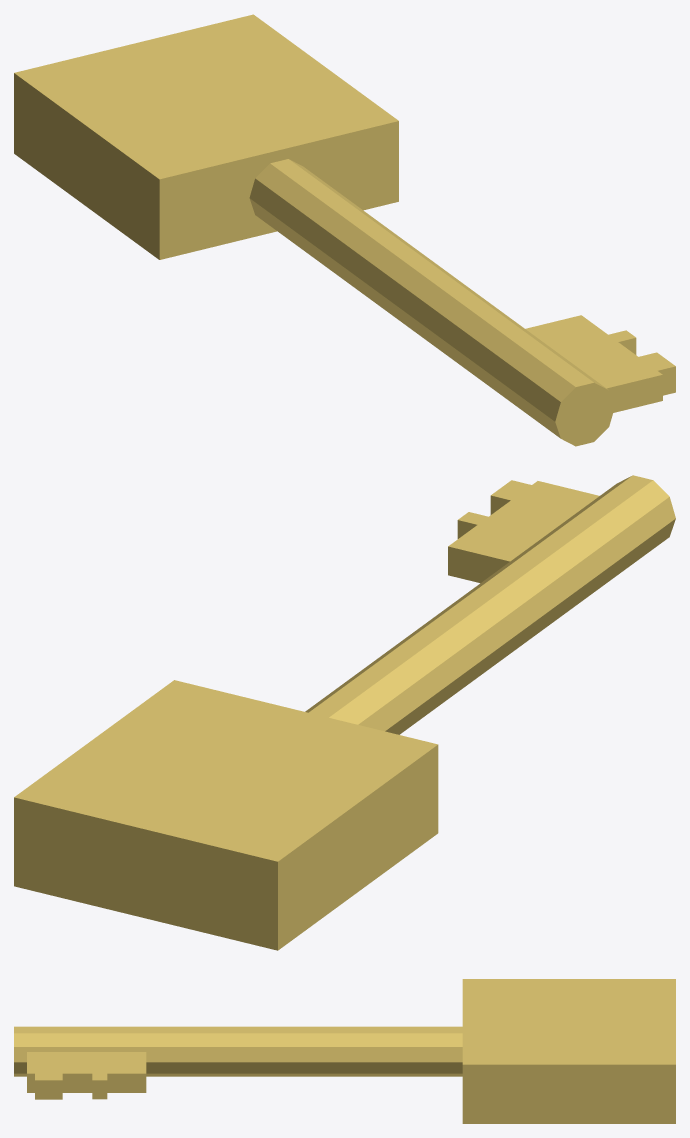
File: key_glb_export.glb
3 views of the same model, one above another, from view 1: azimuth 30°, elevation 25°; view 2: azimuth 150°, elevation 25°; view 3: azimuth 270°, elevation 25° (orthographic). The views are drawn at different scales.
Visible parts, largest first — view 1: pCube1, pCylinder2, pCube2; view 2: pCube1, pCylinder2, pCube2; view 3: pCube1, pCylinder2, pCube2.
Boxes of the visible parts, left/top/right/bottom form: pCube1: left=14, top=14, right=398, bottom=259; pCylinder2: left=249, top=159, right=614, bottom=446; pCube2: left=525, top=315, right=675, bottom=412; pCube1: left=14, top=680, right=438, bottom=950; pCylinder2: left=305, top=475, right=675, bottom=734; pCube2: left=448, top=480, right=599, bottom=583; pCube1: left=462, top=979, right=675, bottom=1123; pCylinder2: left=14, top=1026, right=462, bottom=1076; pCube2: left=27, top=1052, right=146, bottom=1099.
Size of the model in its own units: 3.91 by 1.26 by 12.74.
1 material, 1 textured.
